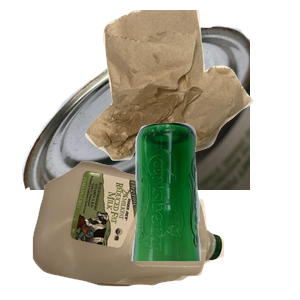glass: (129, 120, 300, 300)
metal: (19, 22, 259, 202)
plastic: (30, 159, 247, 300)
trash: (83, 10, 300, 163)
